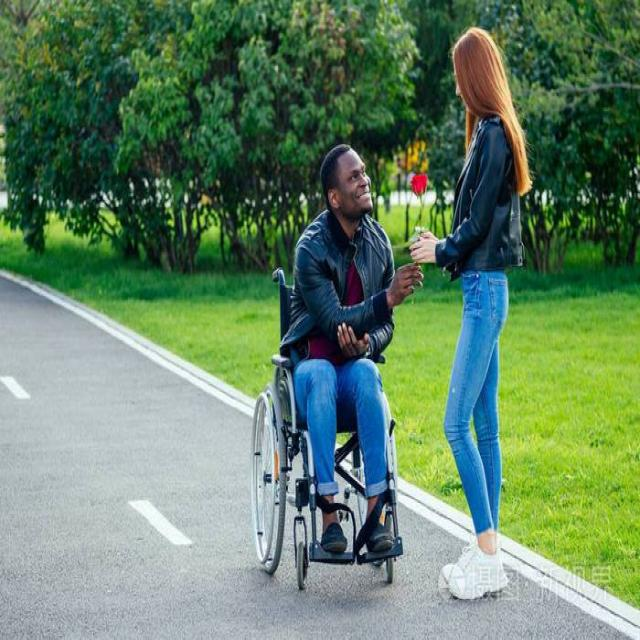wheelchairs: (242, 254, 409, 590)
